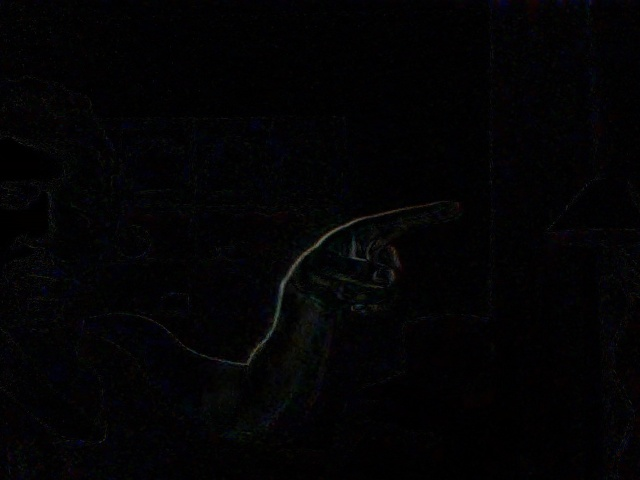hand_po: (281, 186, 448, 323)
